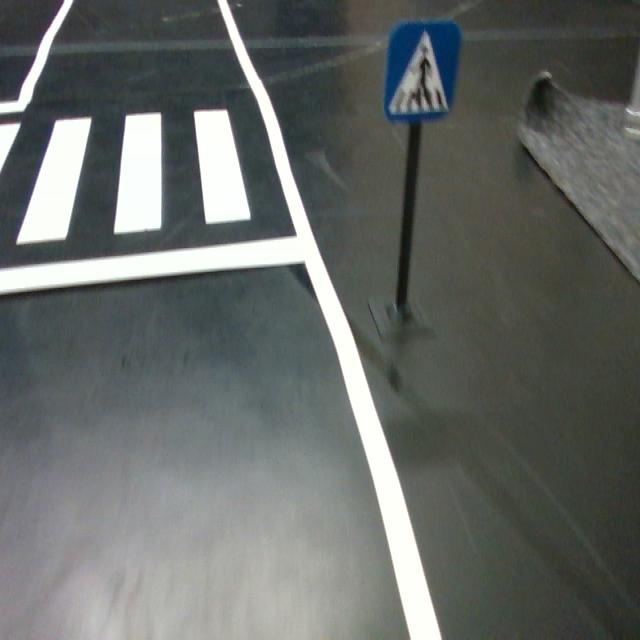crosswalk-sign: (382, 17, 464, 123)
